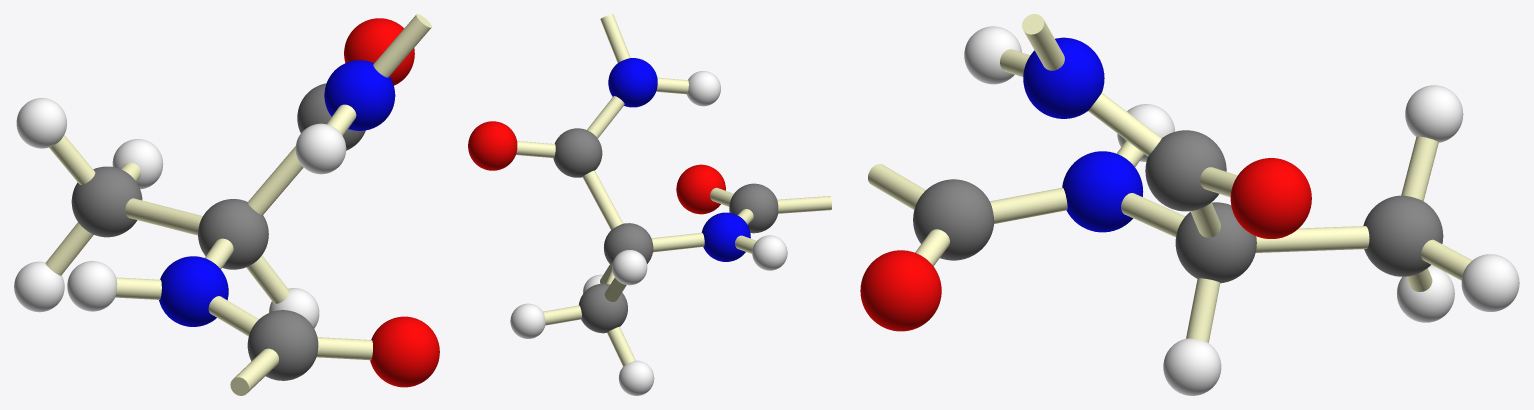
Rendered from conformation.gltf.
The picture shows the model from 3 angles, left to right: view 1: azimuth 30°, elevation 25°; view 2: azimuth 150°, elevation 25°; view 3: azimuth 270°, elevation 25°; orthographic projection. The views are drawn at different scales.
Parts seen in each view (by area): view 1: ?????????2, ?????????3, ?????????9, ?????????1, ?????????13, ?????????4, ?????????6, ?????????14, ?????????12, ?????????7, ?????????10, ?????????22 (+14 smaller); view 2: ?????????6, ?????????13, ?????????5, ?????????2, ?????????3, ?????????9, ?????????1, ?????????4, ?????????7, ?????????12, ?????????11, ?????????10 (+10 smaller); view 3: ?????????2, ?????????6, ?????????3, ?????????9, ?????????1, ?????????5, ?????????13, ?????????4, ?????????11, ?????????8, ?????????12, ?????????22 (+15 smaller).
Part boxes in pixels (left/top/right/bottom): ?????????2: left=370, top=316, right=439, bottom=387; ?????????3: left=159, top=256, right=228, bottom=326; ?????????9: left=71, top=166, right=142, bottom=237; ?????????1: left=247, top=310, right=318, bottom=380; ?????????13: left=324, top=60, right=395, bottom=130; ?????????4: left=198, top=199, right=268, bottom=269; ?????????6: left=344, top=18, right=414, bottom=85; ?????????14: left=295, top=123, right=346, bottom=174; ?????????12: left=16, top=98, right=66, bottom=148; ?????????7: left=67, top=261, right=117, bottom=311; ?????????10: left=14, top=261, right=64, bottom=312; ?????????22: left=125, top=198, right=202, bottom=235; ?????????6: left=468, top=121, right=517, bottom=170; ?????????13: left=608, top=58, right=657, bottom=107; ?????????5: left=553, top=128, right=602, bottom=177; ?????????2: left=676, top=164, right=725, bottom=214; ?????????3: left=701, top=212, right=750, bottom=261; ?????????9: left=579, top=283, right=627, bottom=333; ?????????1: left=729, top=183, right=778, bottom=233; ?????????4: left=604, top=223, right=653, bottom=265; ?????????7: left=752, top=235, right=787, bottom=270; ?????????12: left=612, top=250, right=647, bottom=285; ?????????11: left=510, top=303, right=545, bottom=338; ?????????10: left=618, top=360, right=654, bottom=395; ?????????2: left=860, top=250, right=941, bottom=331; ?????????6: left=1230, top=158, right=1311, bottom=238; ?????????3: left=1062, top=151, right=1143, bottom=232; ?????????9: left=1363, top=195, right=1443, bottom=276; ?????????1: left=913, top=179, right=994, bottom=260; ?????????5: left=1145, top=130, right=1226, bottom=211; ?????????13: left=1023, top=37, right=1104, bottom=118; ?????????4: left=1175, top=202, right=1256, bottom=283; ?????????11: left=1461, top=254, right=1519, bottom=311; ?????????8: left=1163, top=338, right=1221, bottom=395; ?????????12: left=1405, top=85, right=1463, bottom=142; ?????????22: left=1255, top=226, right=1369, bottom=252.
Size of the model in its own units: 44.93 by 40.09 by 56.76.
